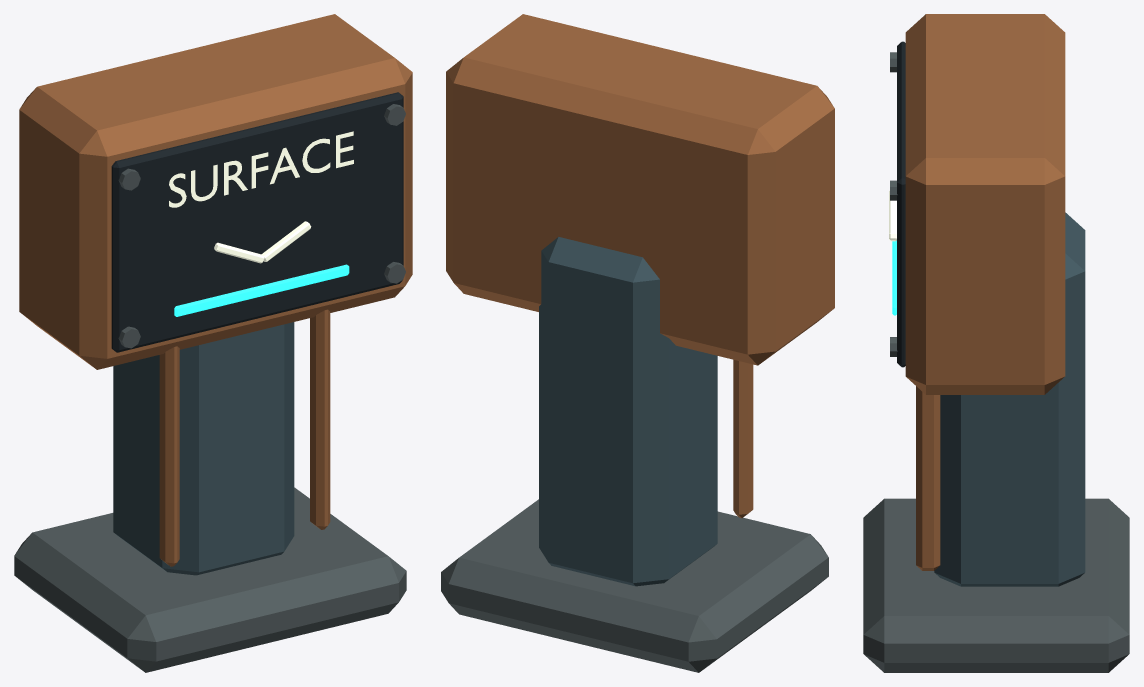
File: e10a-vault-return-pedestal.glb
3 renders of one model, left to right at view 1: azimuth 30°, elevation 25°; view 2: azimuth 150°, elevation 25°; view 3: azimuth 270°, elevation 25°, orthographic.
Visible parts, largest first — view 1: E10a surface return pedestal; view 2: E10a surface return pedestal; view 3: E10a surface return pedestal.
Part boxes in pixels (left/top/right/bottom): E10a surface return pedestal: left=14, top=14, right=412, bottom=672; E10a surface return pedestal: left=441, top=14, right=834, bottom=672; E10a surface return pedestal: left=863, top=14, right=1129, bottom=672.
Bounding box in the file's own units: 0.86 × 1.31 × 0.6.
